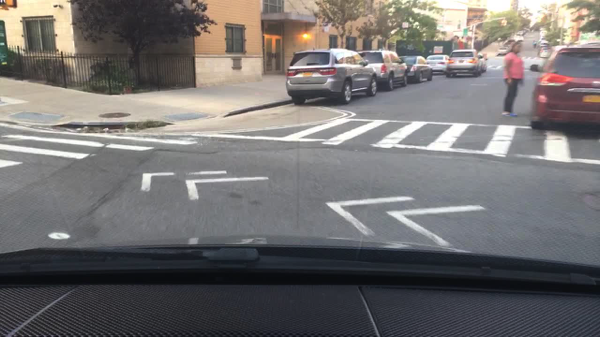car: (530, 42, 599, 130), (285, 48, 376, 104), (359, 50, 409, 91), (399, 55, 433, 84), (445, 50, 481, 77), (426, 56, 449, 74), (478, 54, 489, 72), (538, 48, 551, 59), (498, 45, 510, 55), (539, 42, 549, 50), (497, 35, 507, 42), (536, 40, 546, 47), (514, 36, 524, 42), (504, 40, 515, 45), (540, 30, 547, 36), (521, 30, 529, 35), (515, 31, 522, 36), (539, 36, 546, 40), (524, 28, 530, 32)
person: (502, 41, 524, 118)
traffic light: (0, 0, 19, 11), (500, 21, 504, 28), (504, 20, 507, 27)
traffic sign: (401, 22, 409, 28), (463, 29, 467, 36)
